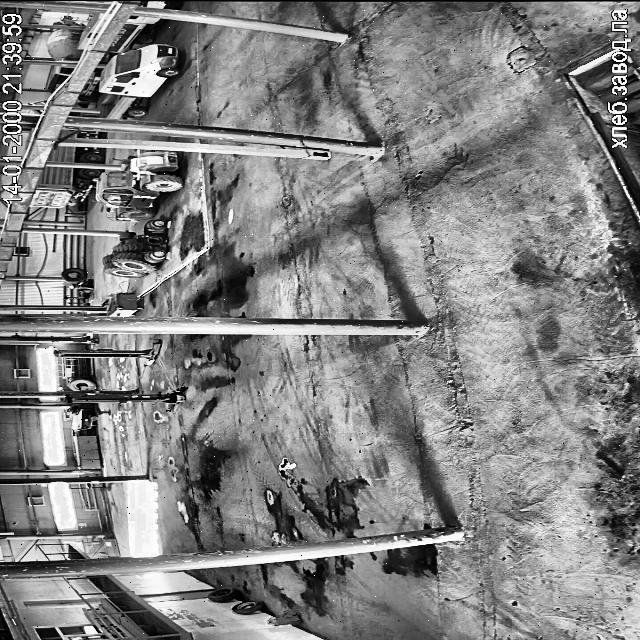class6: (96, 151, 181, 220), (102, 220, 166, 277)
class7: (100, 44, 180, 119), (28, 166, 100, 208), (108, 16, 156, 52), (46, 20, 82, 60), (49, 146, 102, 163), (78, 12, 102, 48), (45, 66, 73, 92), (78, 68, 99, 102), (140, 0, 179, 8), (126, 16, 161, 24), (76, 132, 97, 140), (60, 130, 76, 136)
tractor: (268, 616, 300, 624)
truck: (65, 388, 185, 411), (52, 340, 161, 365)
